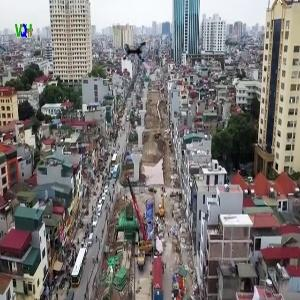drone: (122, 35, 158, 71)
